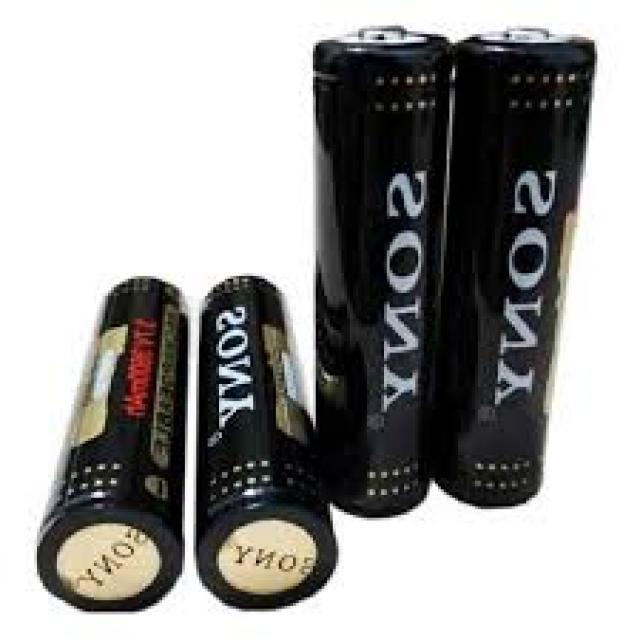battery: (432, 23, 596, 520), (310, 18, 428, 518), (32, 268, 190, 610), (198, 266, 342, 610)
